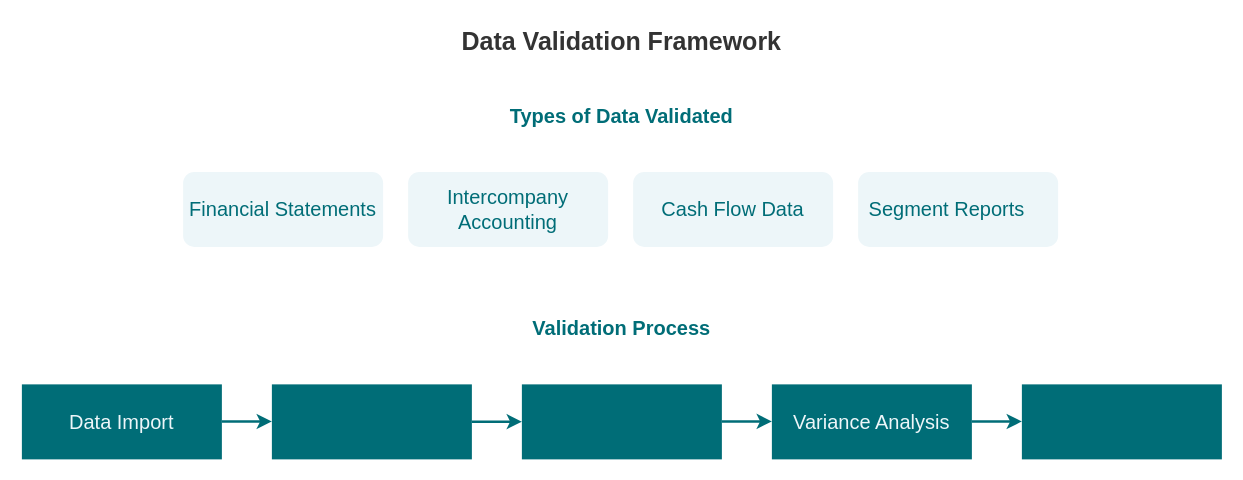
This 1243x480 diagram has some shape labels left out. Here are the shapes that lost their labels. From the top down, the box of each, then its label:
(271, 384, 471, 459): Completeness Check
(521, 384, 721, 459): Balancing & Reconciliation
(1021, 384, 1221, 459): Final Approval
